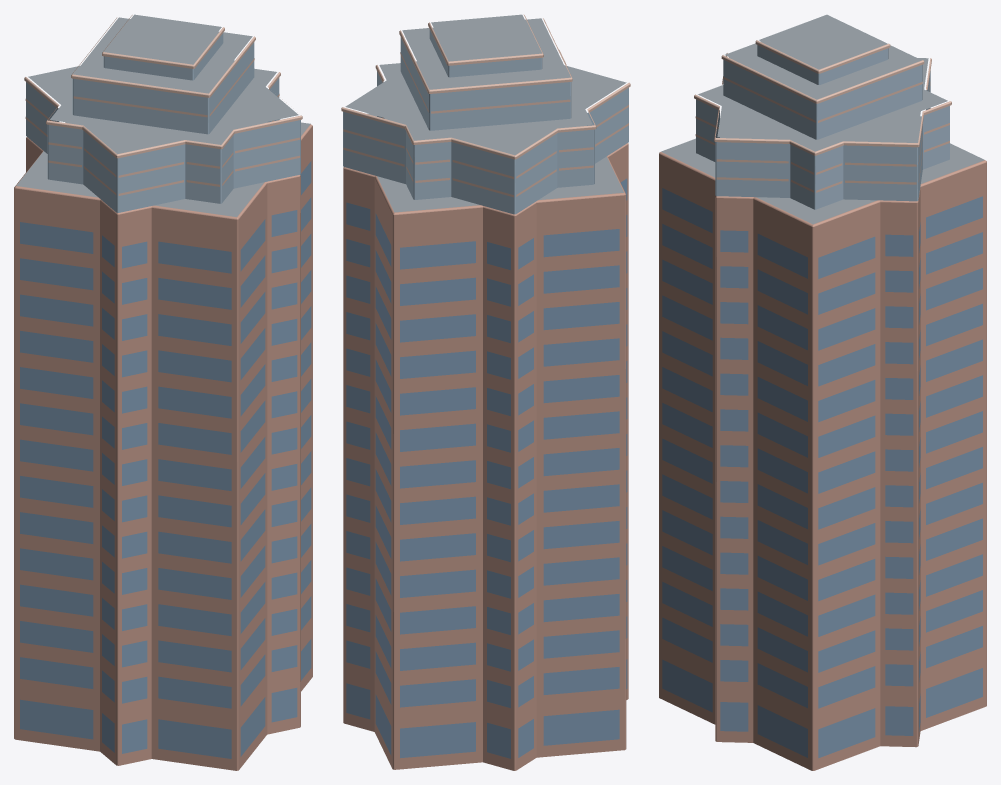
Rendered from detail.glb.
The picture shows the model from 3 angles, left to right: view 1: azimuth 30°, elevation 25°; view 2: azimuth 150°, elevation 25°; view 3: azimuth 270°, elevation 25°; orthographic projection.
Parts seen in each view (by area): view 1: fox-plaza; view 2: fox-plaza; view 3: fox-plaza.
Part boxes in pixels (box(x1,y1,x2,y2)): fox-plaza: box(14, 14, 312, 770); fox-plaza: box(341, 14, 630, 770); fox-plaza: box(659, 14, 986, 770).
Size of the model in its own units: 66.41 by 148 by 66.41.
